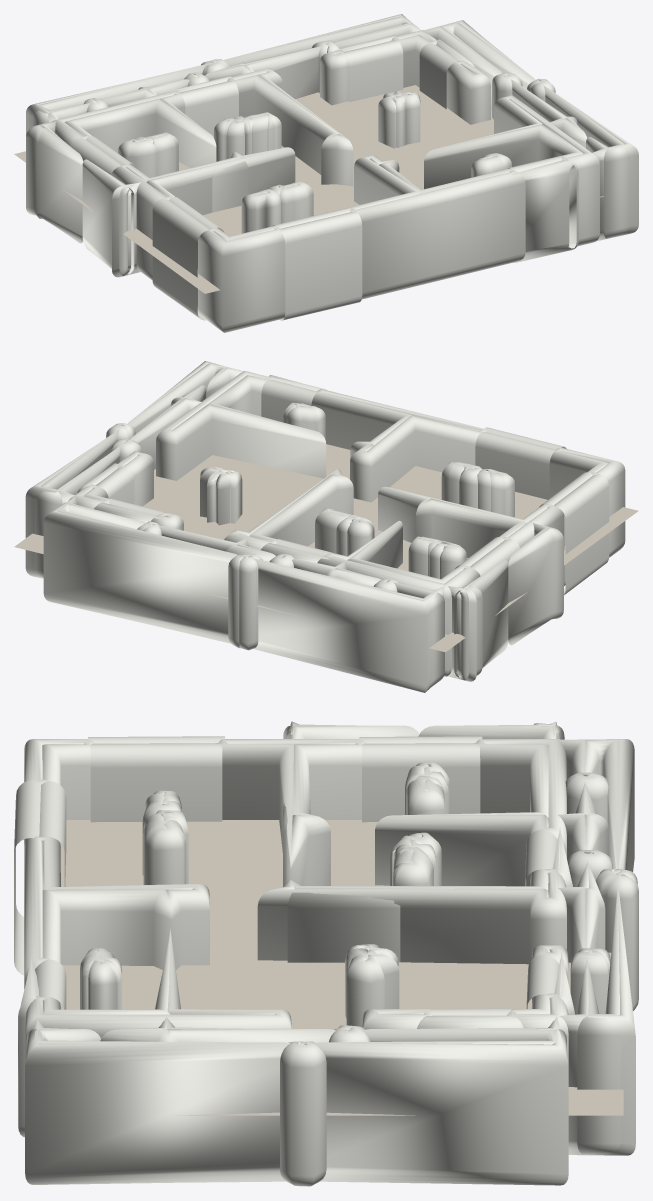
Rendered from 6eb01151-49cd-4f5b-b156-c628a1c7fdfa_model.glb.
The picture shows the model from 3 angles, top to bottom: view 1: azimuth 30°, elevation 25°; view 2: azimuth 150°, elevation 25°; view 3: azimuth 270°, elevation 25°; orthographic projection. The views are drawn at different scales.
Parts seen in each view (by area): view 1: wall_9, Floor, wall_12, wall_4, wall_17, wall_0, wall_33, wall_32, wall_34, wall_13, wall_19, wall_1 (+25 smaller); view 2: wall_47, wall_45, Floor, wall_12, wall_9, wall_17, wall_34, wall_19, wall_33, wall_32, wall_37, wall_11 (+25 smaller); view 3: Floor, wall_37, wall_13, wall_32, wall_9, wall_33, wall_17, wall_47, wall_10, wall_12, wall_26, wall_14 (+30 smaller).
Boxes of the visible parts, box(x1,y1,x2,y2) form: wall_9: box(349, 155, 525, 299); Floor: box(14, 85, 603, 293); wall_12: box(424, 95, 599, 246); wall_4: box(198, 225, 285, 332); wall_17: box(111, 147, 295, 280); wall_0: box(279, 211, 362, 320); wall_33: box(52, 90, 216, 167); wall_32: box(227, 68, 353, 186); wall_34: box(26, 121, 83, 243); wall_13: box(543, 85, 638, 241); wall_19: box(82, 159, 141, 277); wall_1: box(512, 159, 578, 262); wall_47: box(43, 496, 237, 643); wall_45: box(254, 558, 444, 692); Floor: box(14, 444, 638, 652); wall_12: box(156, 371, 326, 480); wall_9: box(311, 389, 486, 502); wall_17: box(378, 486, 564, 585); wall_34: box(448, 560, 508, 681); wall_19: box(508, 523, 563, 645); wall_33: box(317, 520, 480, 676); wall_32: box(224, 468, 353, 549); wall_37: box(25, 429, 121, 578); wall_11: box(554, 474, 609, 594); Floor: box(60, 820, 623, 1115); wall_37: box(314, 1016, 568, 1185); wall_13: box(25, 1018, 290, 1184); wall_32: box(257, 869, 566, 964); wall_9: box(24, 836, 209, 1005); wall_33: box(375, 739, 566, 886); wall_17: box(218, 739, 365, 886); wall_47: box(559, 882, 635, 1155); wall_10: box(90, 743, 222, 822); wall_12: box(25, 929, 291, 1059); wall_26: box(361, 743, 480, 822); wall_14: box(280, 1041, 326, 1186).
Bounding box in the file's own units: 40.06 × 7.73 × 31.42.
